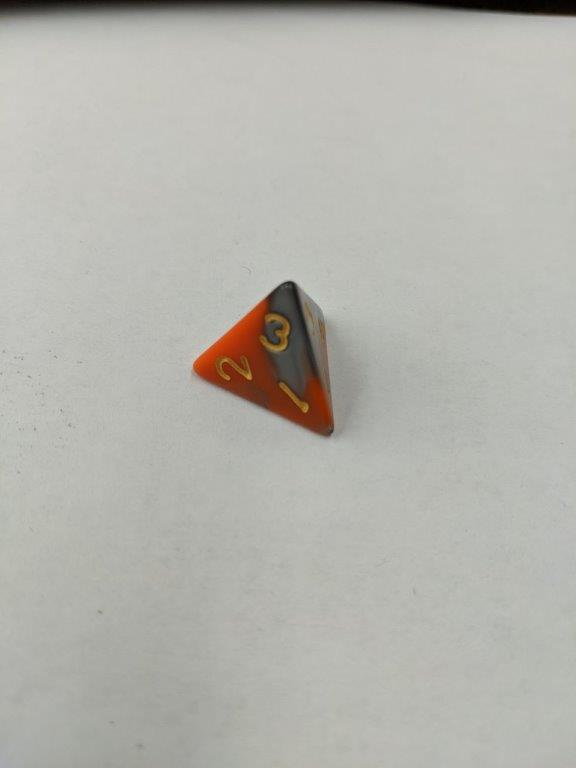d4-3: (184, 278, 344, 446)
